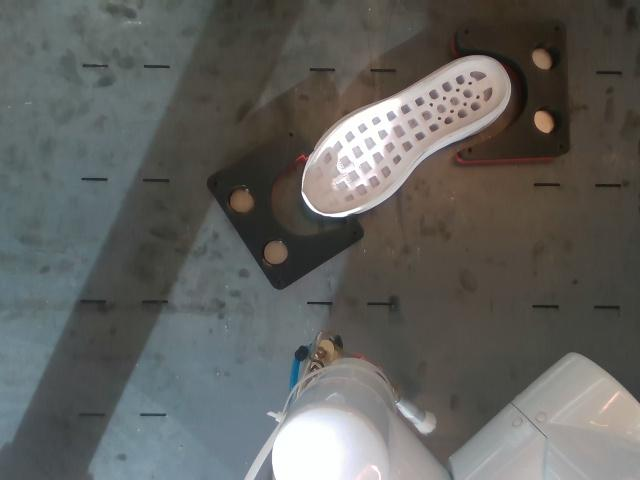shoes: (303, 59, 507, 214)
